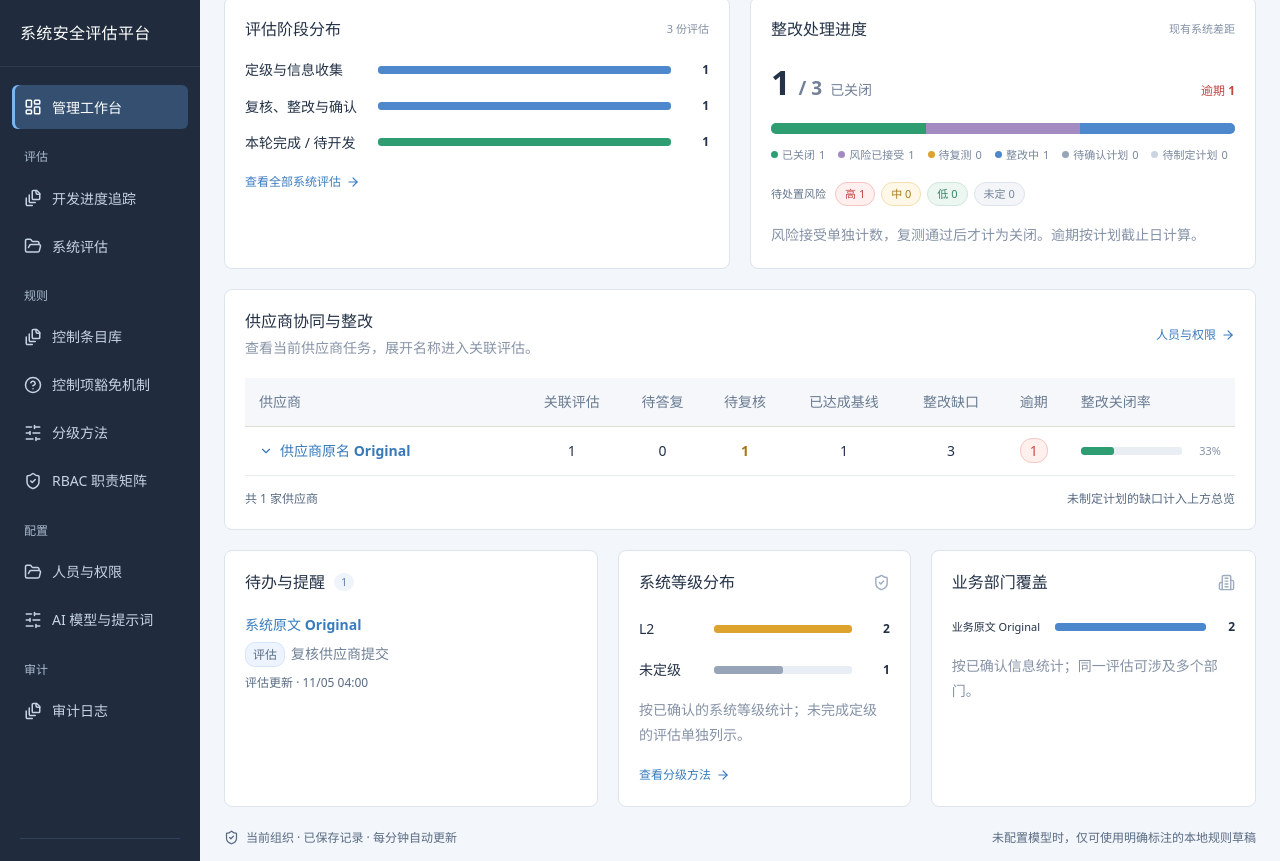
Test: lands admins on the dashboard and preserves authored names when switching language
The width and height of the screenshot is (1280, 861).
(page scrolled)
Expected: the text "33%" is shown, [1199,443,1221,458]
Click the button "供应商原名 Original" at (340, 451), box [259,438,420,463]
(page scrolled)
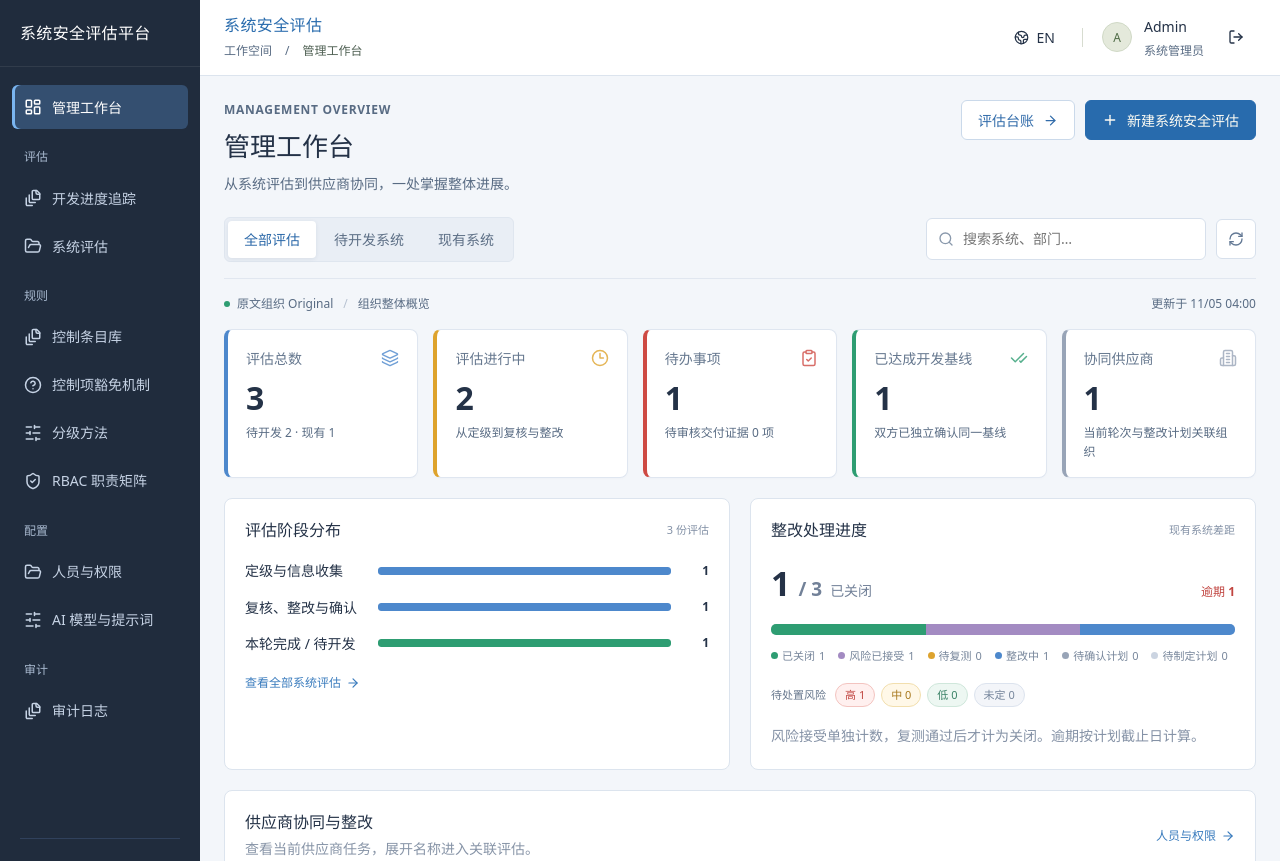
Click the button with aria-label "切换为 English" at (1034, 38), box [1006,18,1063,58]
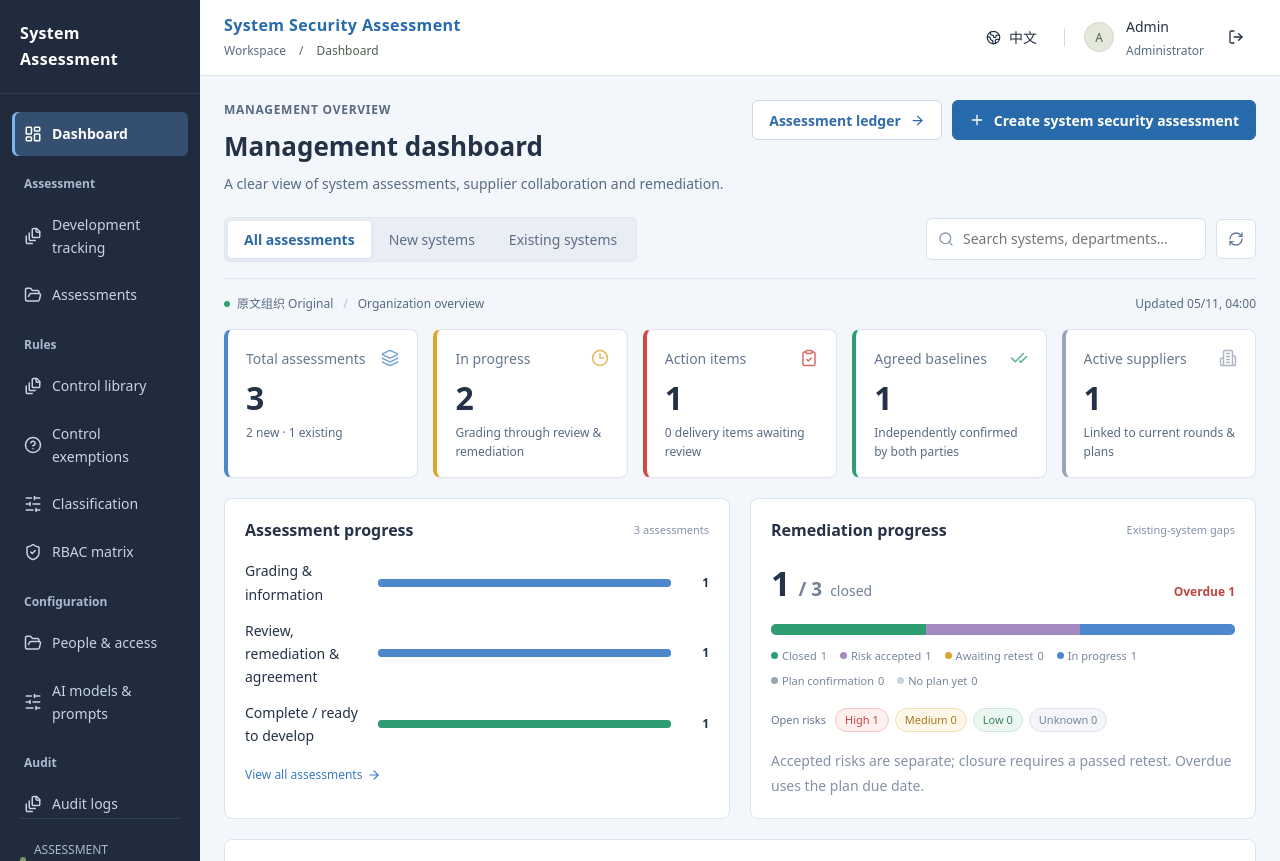
Expected: the heading "Management dashboard" is shown, [224,128,543,164]
Expected: the text "Accepted risks are separate" is shown, [771,751,1232,795]
